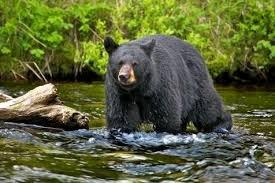bear: (104, 35, 233, 133)
